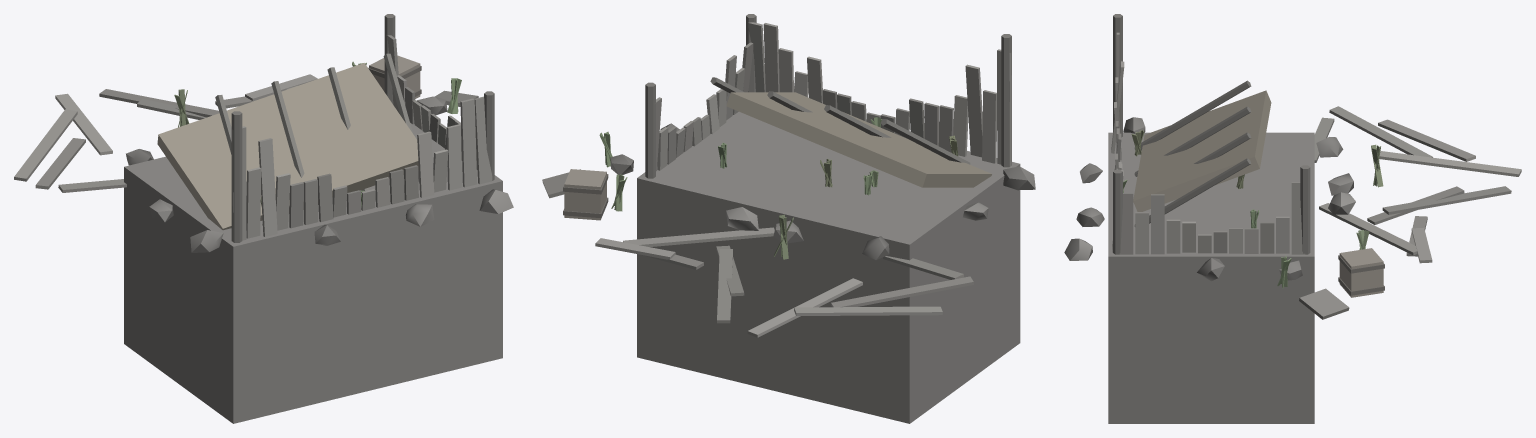
The model's file is storage_0.gltf.
3 views of the same model, side by side, from view 1: azimuth 30°, elevation 25°; view 2: azimuth 150°, elevation 25°; view 3: azimuth 270°, elevation 25° (orthographic). The views are drawn at different scales.
Parts seen in each view (by area): view 1: Body; view 2: Body; view 3: Body.
Part boxes in pixels (bbox=[...]): Body: bbox=[14, 14, 513, 423]; Body: bbox=[542, 14, 1035, 423]; Body: bbox=[1064, 14, 1521, 423].
Bounding box in the file's own units: 7.58 × 5.08 × 7.31.
